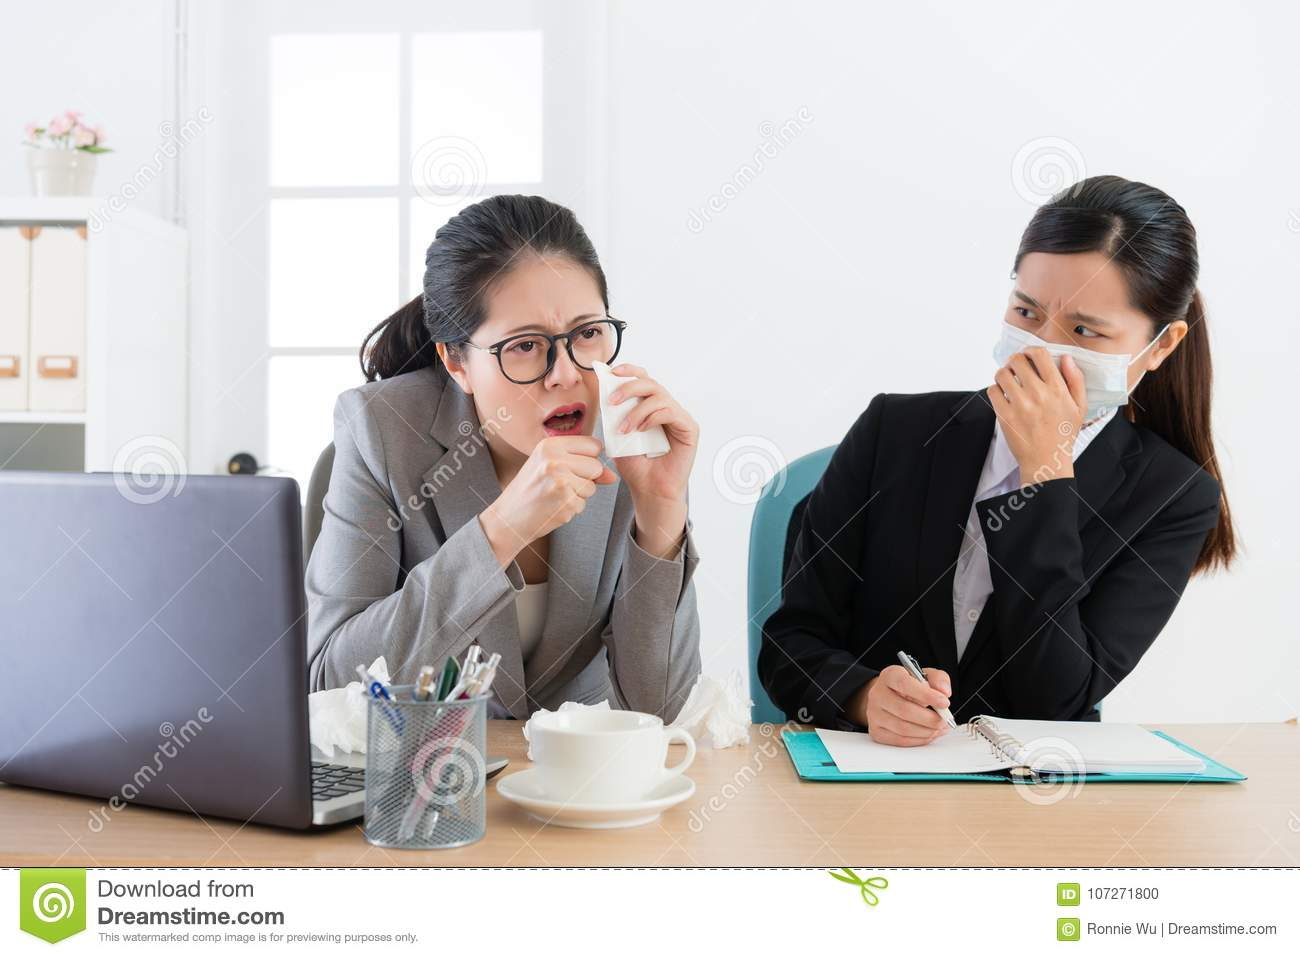mask: (994, 326, 1133, 430)
